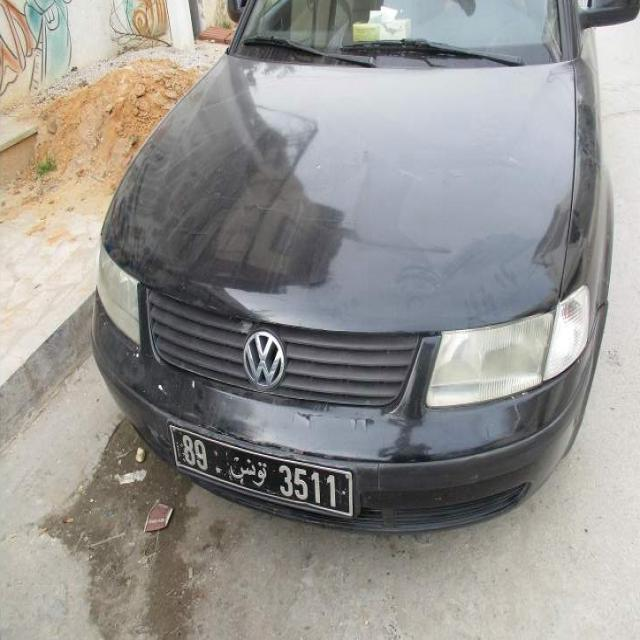licence plate: (173, 430, 348, 513)
